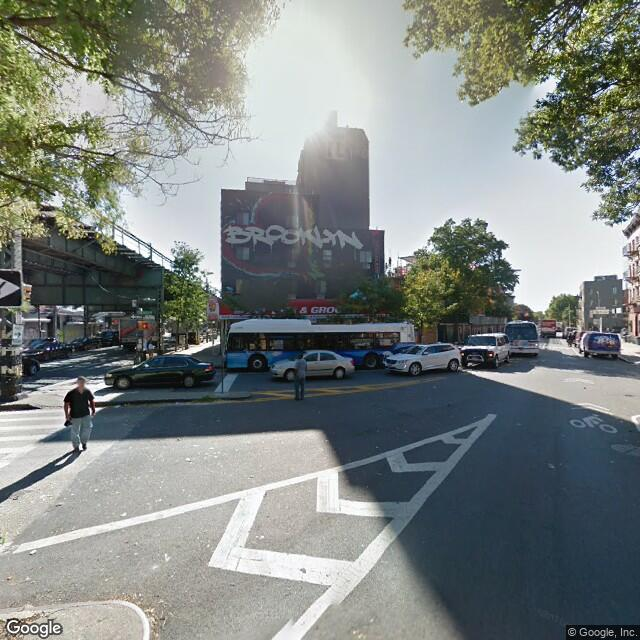litter: (544, 460, 557, 471), (28, 548, 39, 558), (114, 402, 122, 412), (609, 457, 617, 465), (430, 384, 439, 391), (173, 401, 183, 403)
